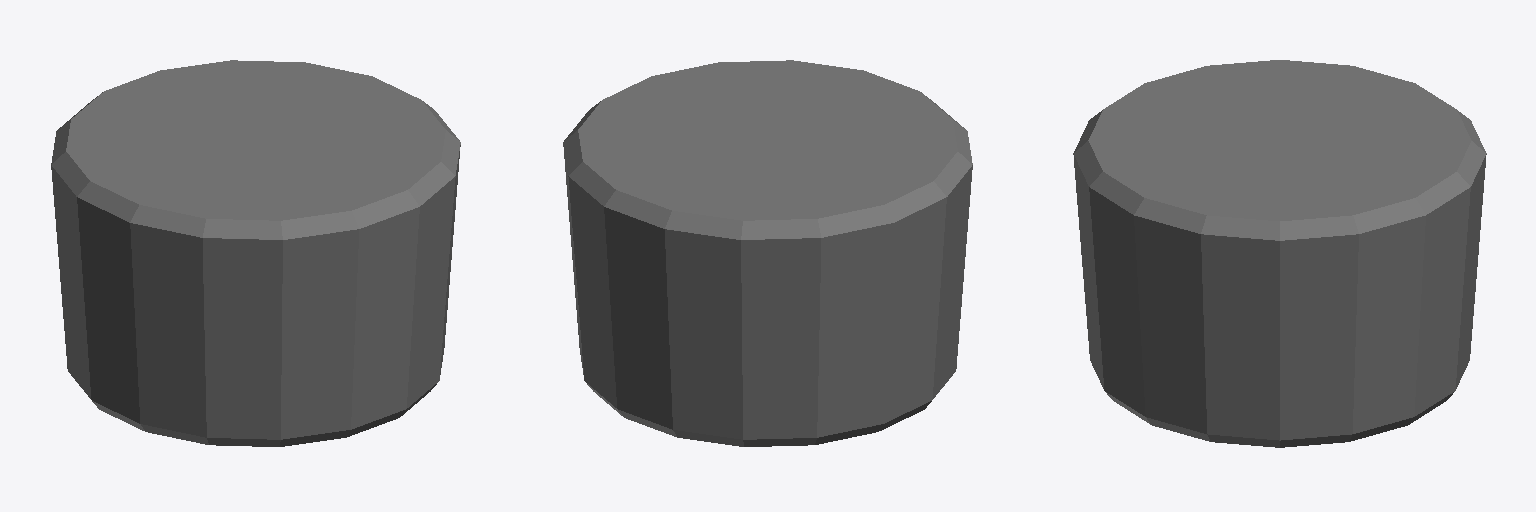
Rendered from Faucet_Button.obj.
3 views of the same model, side by side, from view 1: azimuth 30°, elevation 25°; view 2: azimuth 150°, elevation 25°; view 3: azimuth 270°, elevation 25° (orthographic).
Parts seen in each view (by area): view 1: faucet_Button; view 2: faucet_Button; view 3: faucet_Button.
Part boxes in pixels (bbox=[...]): faucet_Button: bbox=[51, 60, 460, 446]; faucet_Button: bbox=[563, 60, 972, 446]; faucet_Button: bbox=[1073, 60, 1486, 447].
Bounding box in the file's own units: 0.3385 × 0.2086 × 0.3385.